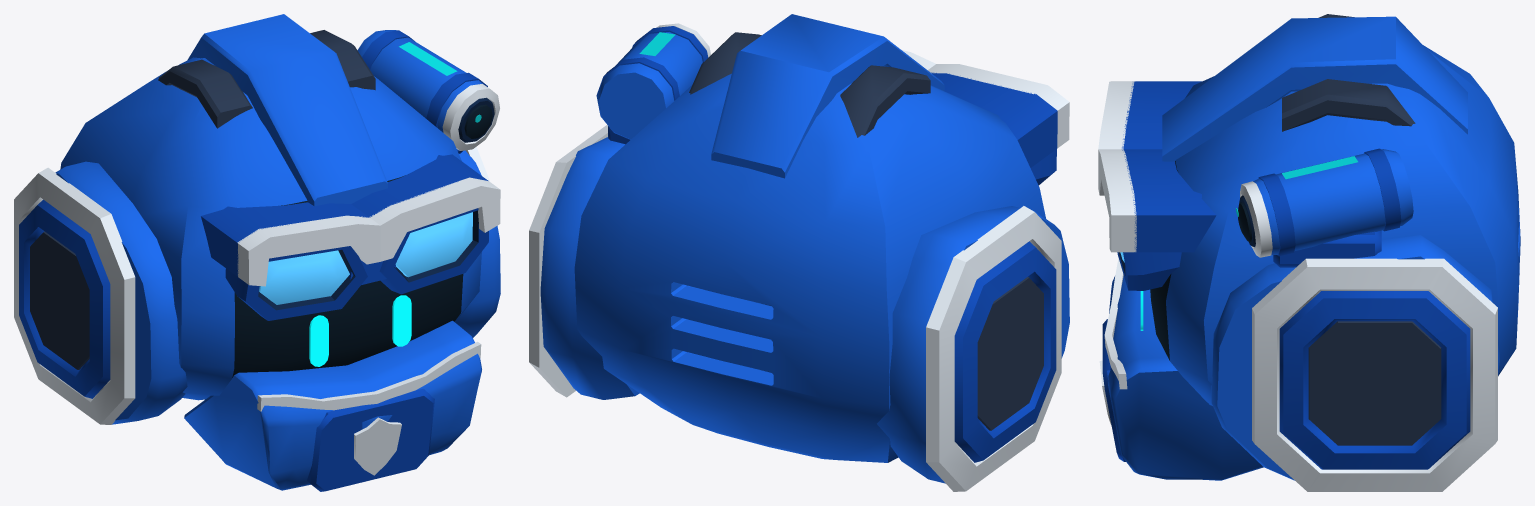
File: copilot_security_v01.glb
The picture shows the model from 3 angles, left to right: view 1: azimuth 30°, elevation 25°; view 2: azimuth 150°, elevation 25°; view 3: azimuth 270°, elevation 25°; orthographic projection. The views are drawn at different scales.
Visible parts, largest first — view 1: security_model; view 2: security_model; view 3: security_model.
Boxes of the visible parts, x1,y1,x2,y2 form: security_model: (14,14,500,491); security_model: (529,14,1069,491); security_model: (1098,14,1520,491).
Bounding box in the file's own units: 2.61 × 2.34 × 2.23.
2 materials, 2 textured.
